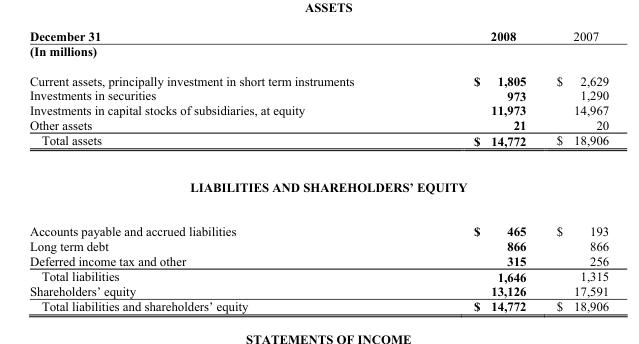table: (28, 28, 608, 313)
table column: (28, 28, 413, 313), (413, 28, 540, 313), (540, 28, 608, 313)
table column header: (28, 28, 608, 43)
table projected row header: (28, 163, 608, 209), (28, 43, 608, 65)
table row: (28, 163, 608, 209), (28, 132, 608, 163), (28, 209, 608, 238), (28, 43, 608, 65), (28, 65, 608, 87), (28, 28, 608, 43), (28, 87, 608, 102), (28, 102, 608, 117), (28, 117, 608, 132), (28, 238, 608, 253), (28, 253, 608, 268), (28, 268, 608, 283), (28, 283, 608, 298), (28, 298, 608, 313)
